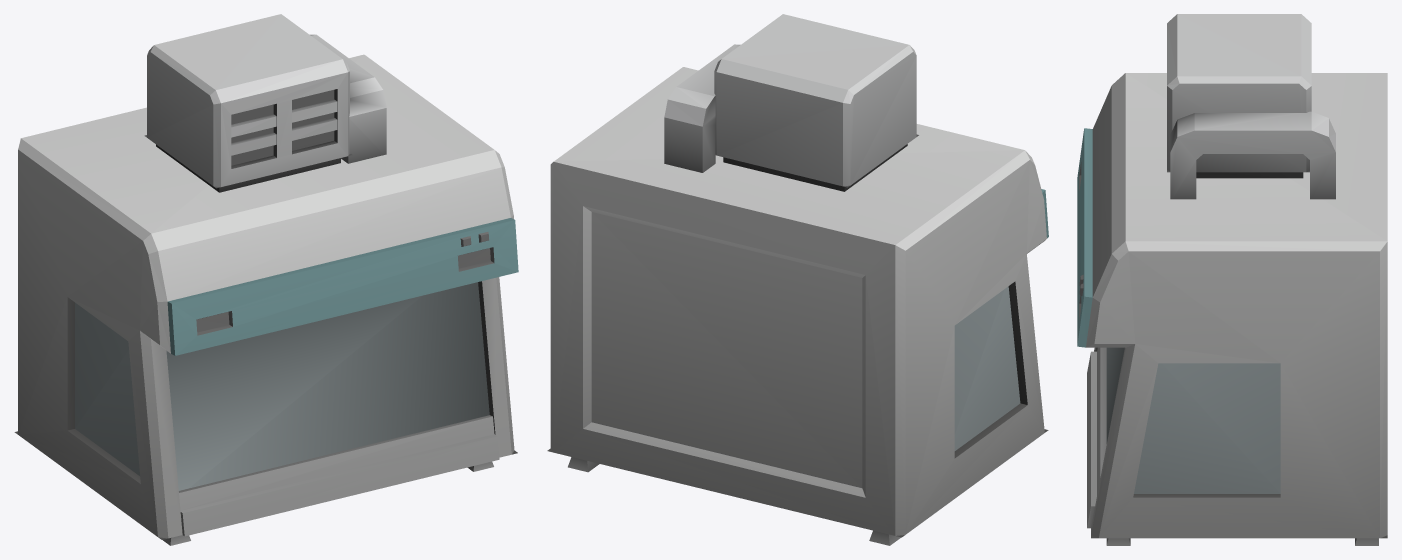
File: laminar.glb
3 views of the same model, side by side, from view 1: azimuth 30°, elevation 25°; view 2: azimuth 150°, elevation 25°; view 3: azimuth 270°, elevation 25° (orthographic).
Parts seen in each view (by area): view 1: laminar; view 2: laminar; view 3: laminar.
Boxes of the visible parts, x1,y1,x2,y2 form: laminar: (14,14,518,545); laminar: (547,14,1048,545); laminar: (1077,14,1387,545).
Size of the model in its own units: 1.2 by 1.32 by 0.8998.
